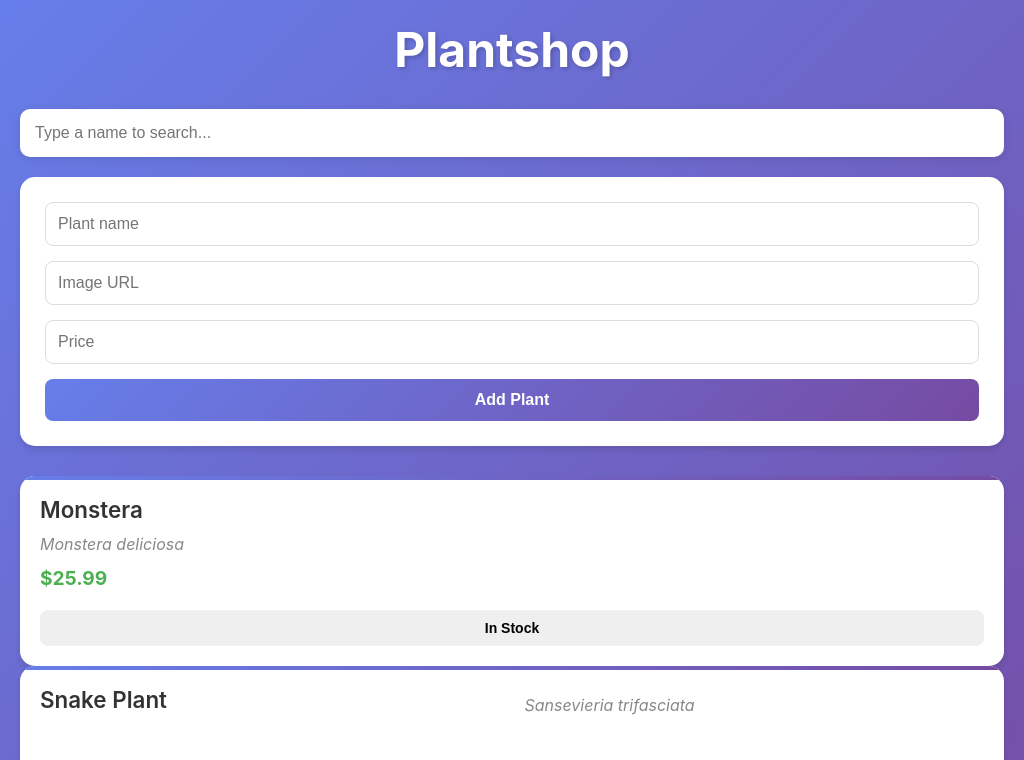
4th Deliverable › filters plants by name on search
The width and height of the screenshot is (1024, 760).
Search for 'Aloe'
Type "Aloe" into the field with test id "search-input" at (512, 133), box left=20, top=109, right=1004, bottom=157
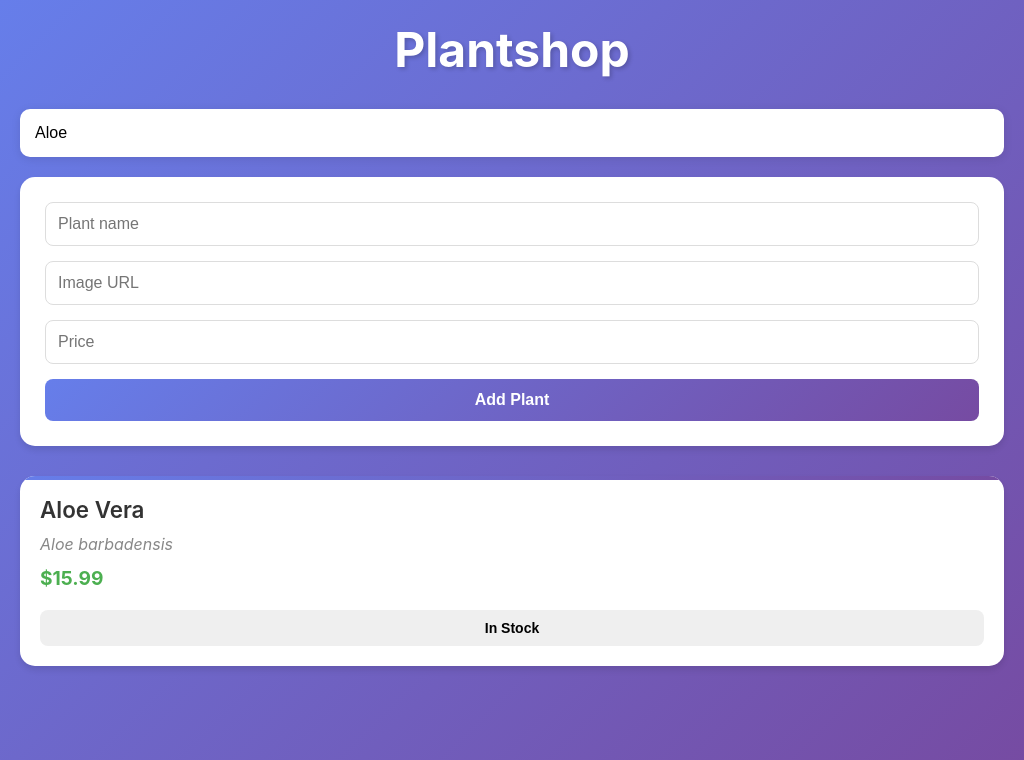
Expected: the heading "Aloe Vera" is shown, left=40, top=496, right=144, bottom=523
Now the number of elements with test id "plant-item" is 1, box left=20, top=476, right=1004, bottom=666
Clear search
Clear the field with test id "search-input" at (512, 133), box left=20, top=109, right=1004, bottom=157
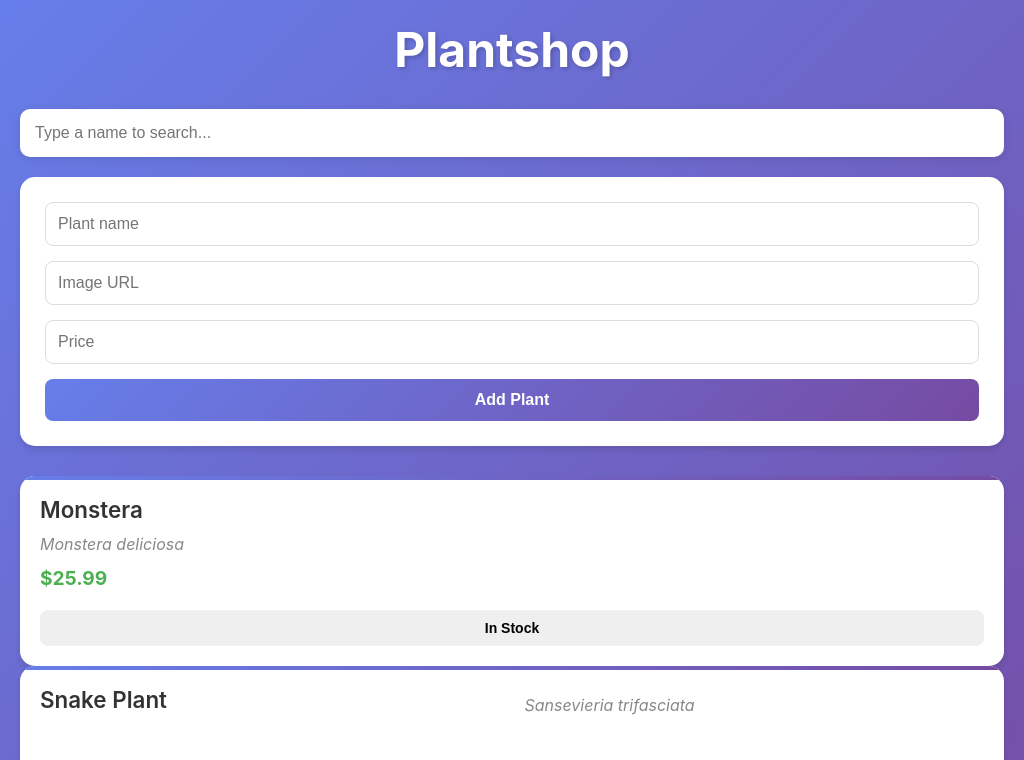
Now the number of elements with test id "plant-item" is 3
